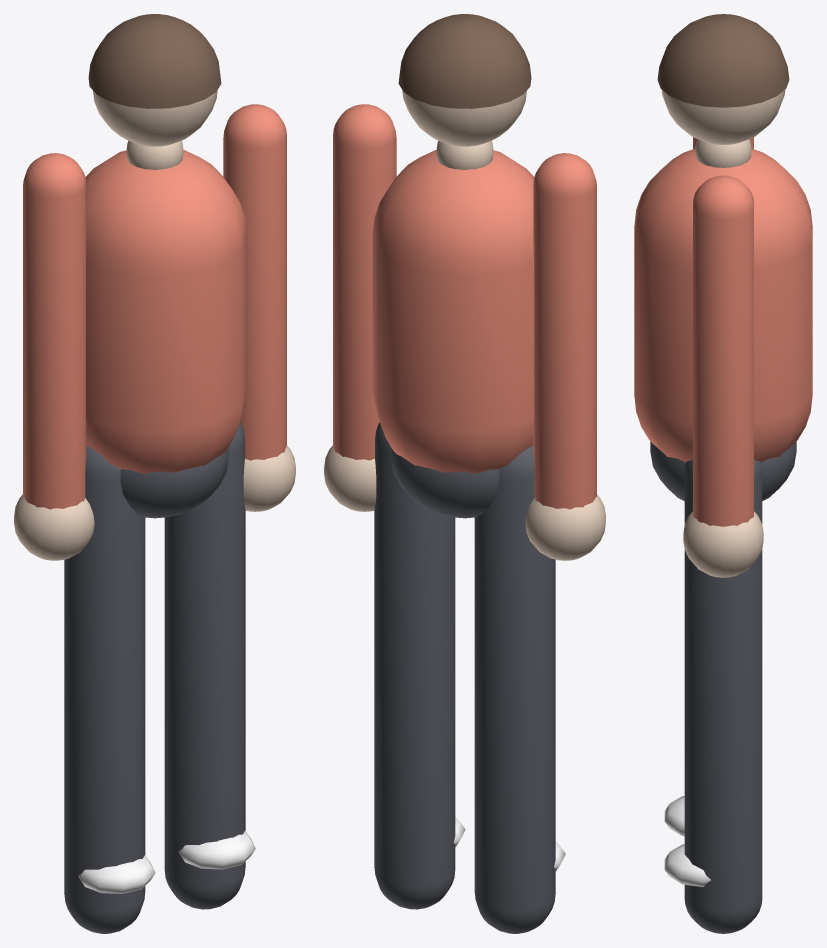
File: male_athletic_28.glb
3 views of the same model, side by side, from view 1: azimuth 30°, elevation 25°; view 2: azimuth 150°, elevation 25°; view 3: azimuth 270°, elevation 25° (orthographic).
Parts seen in each view (by area): view 1: torso, leg_l, leg_r, arm_l, arm_r, hair, hips, hand_l, head, hand_r, shoe_l, shoe_r (+1 smaller); view 2: torso, leg_l, leg_r, arm_l, arm_r, hair, hips, hand_l, head, hand_r, neck; view 3: torso, leg_r, arm_r, hair, hand_r, head, hips, neck, shoe_r, shoe_l.
Boxes of the visible parts, x1,y1,x2,y2 form: torso: [85, 150, 247, 473]; leg_l: [64, 446, 145, 933]; leg_r: [164, 422, 245, 909]; arm_l: [23, 153, 86, 509]; arm_r: [223, 104, 286, 460]; hair: [88, 14, 221, 108]; hips: [120, 448, 228, 518]; hand_l: [14, 494, 94, 560]; head: [93, 90, 217, 146]; hand_r: [243, 445, 295, 511]; shoe_l: [78, 855, 155, 893]; shoe_r: [178, 831, 255, 869]; torso: [372, 150, 534, 473]; leg_l: [474, 446, 555, 933]; leg_r: [374, 422, 455, 909]; arm_l: [533, 153, 596, 509]; arm_r: [333, 104, 396, 460]; hair: [398, 14, 531, 108]; hips: [391, 448, 499, 518]; hand_l: [525, 494, 605, 560]; head: [402, 90, 526, 146]; hand_r: [324, 445, 376, 511]; neck: [436, 140, 493, 169]; torso: [634, 149, 812, 462]; leg_r: [684, 459, 762, 933]; arm_r: [693, 175, 753, 526]; hair: [657, 14, 789, 107]; hand_r: [683, 511, 763, 577]; head: [661, 89, 785, 144]; hips: [650, 441, 796, 500]; neck: [695, 139, 751, 167]; shoe_r: [664, 844, 710, 887]; shoe_l: [664, 796, 684, 836].
Size of the model in its own units: 0.5973 by 1.88 by 0.3432.
